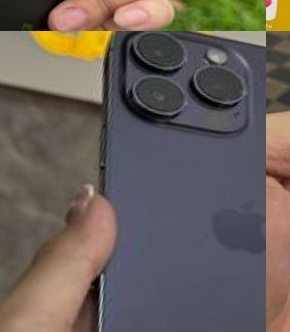scratch: (71, 267, 126, 332)
